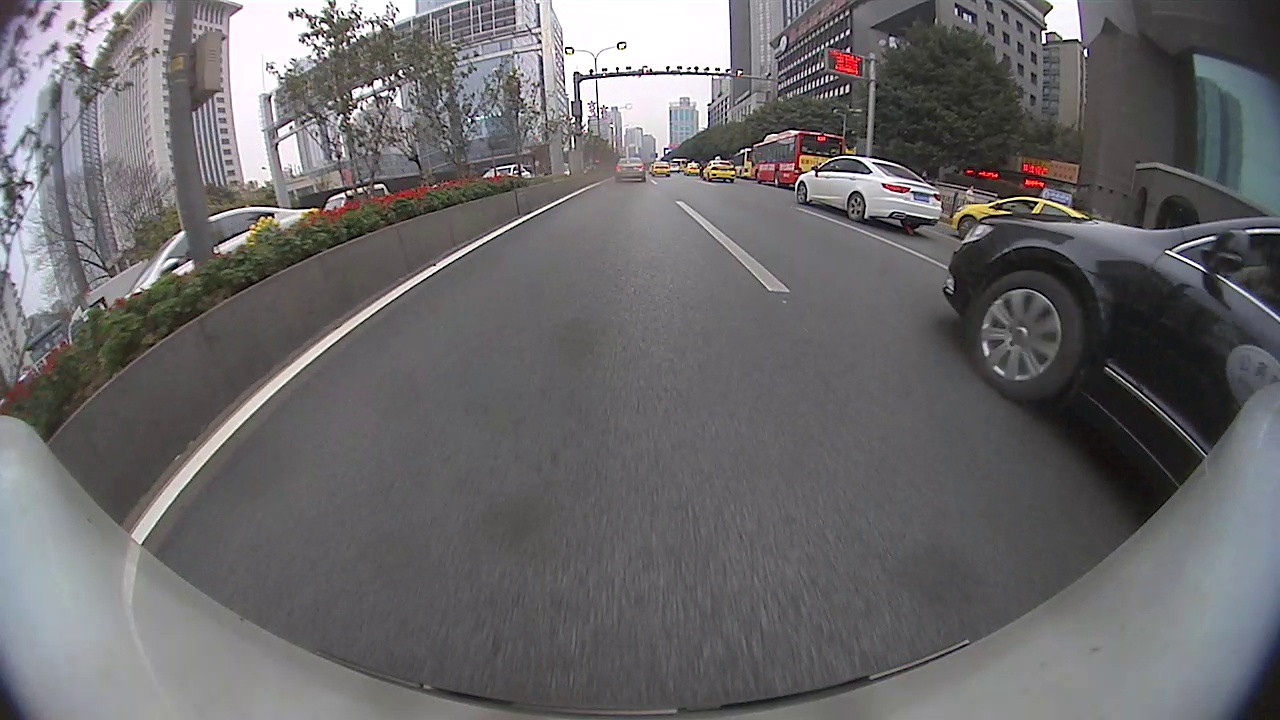bus: (747, 125, 849, 189)
car: (940, 203, 1278, 506), (119, 200, 325, 308), (793, 151, 945, 232), (949, 193, 1102, 241), (320, 179, 395, 215), (478, 161, 544, 180), (700, 153, 738, 184), (613, 155, 648, 183), (650, 159, 672, 178)
front: (962, 269, 1088, 406), (956, 217, 978, 238), (795, 184, 808, 205)
person: (966, 184, 976, 203)
rear: (846, 193, 865, 222)
truck: (64, 252, 155, 353)
